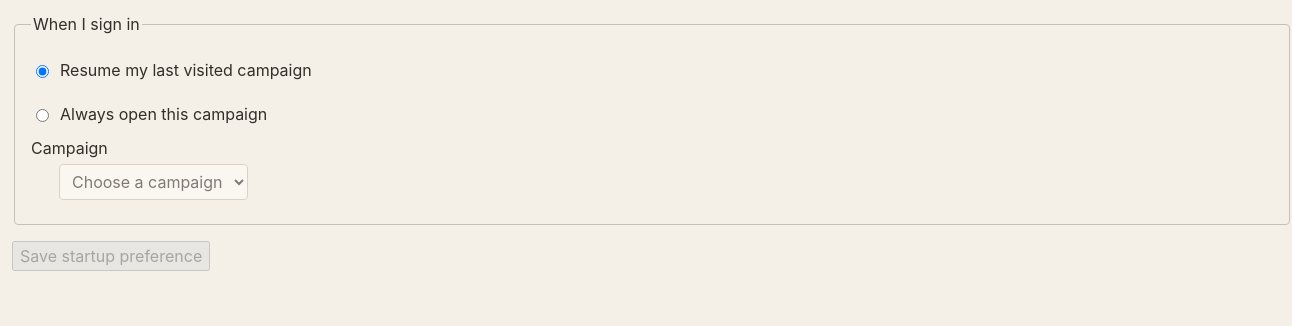
Test: CampaignStartupForm failures › keeps the chosen values and allows a retry after a recoverable error
Step 1. Click the radio button labelled "Always open this campaign" → [42, 116], box [36,109,49,122]
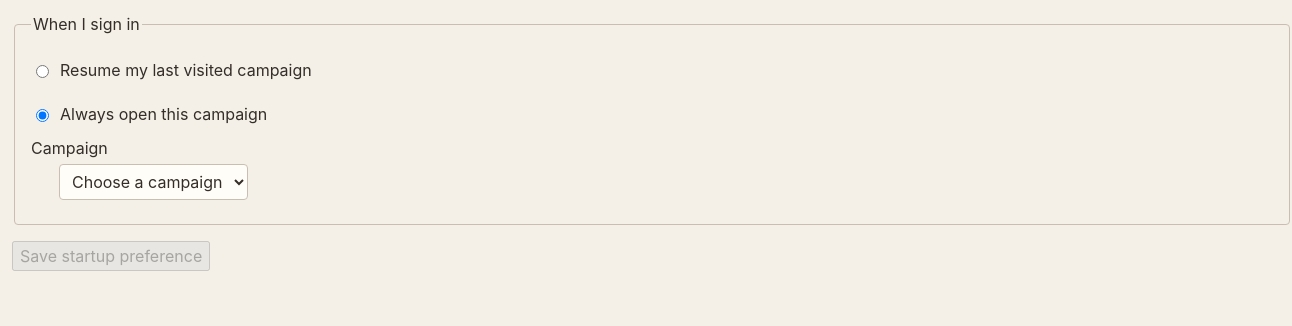
Step 2. Select "Alpha Campaign" in the dropdown labelled "Campaign" → [154, 182], box [59,164,248,200]
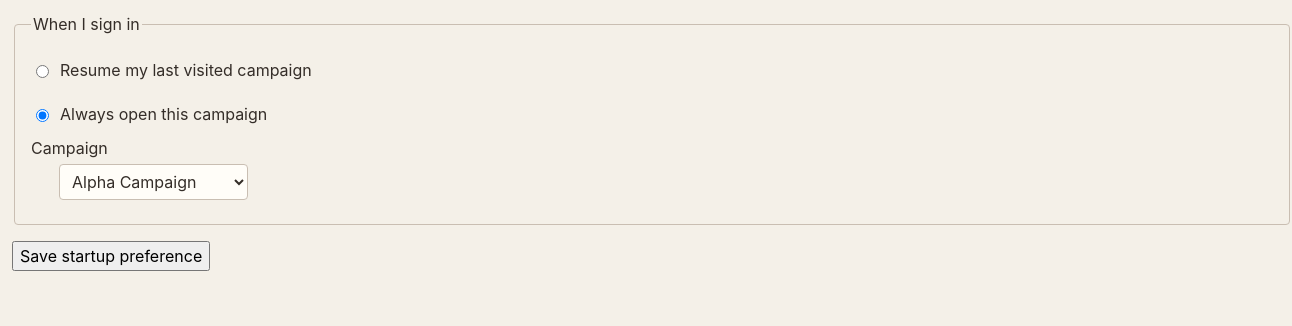
Step 3. Click the button "Save startup preference" → [111, 256], box [12,241,210,271]
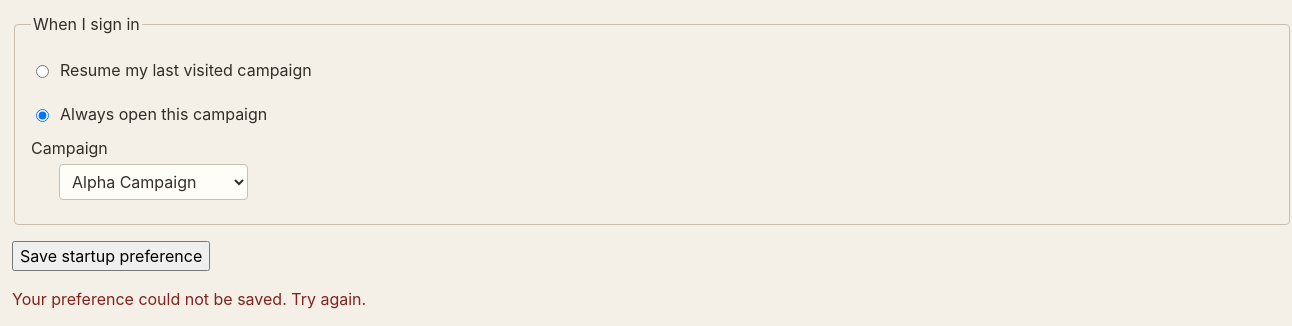
Expected: the button "Save startup preference" is enabled
Expected: the message reads "Your preference could not be saved. Try again.", [12,289,366,309]
Step 4. Click the button "Save startup preference" → [111, 256], box [12,241,210,271]
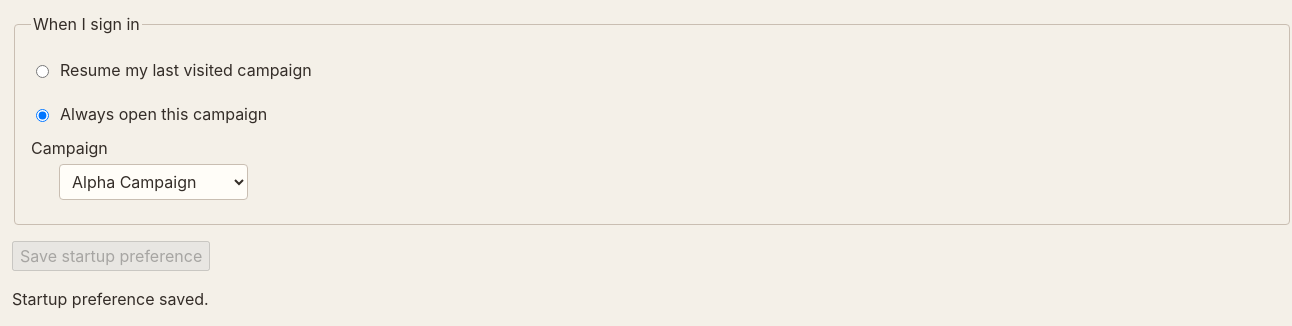
Expected: the message shows "saved", [12,289,209,309]
